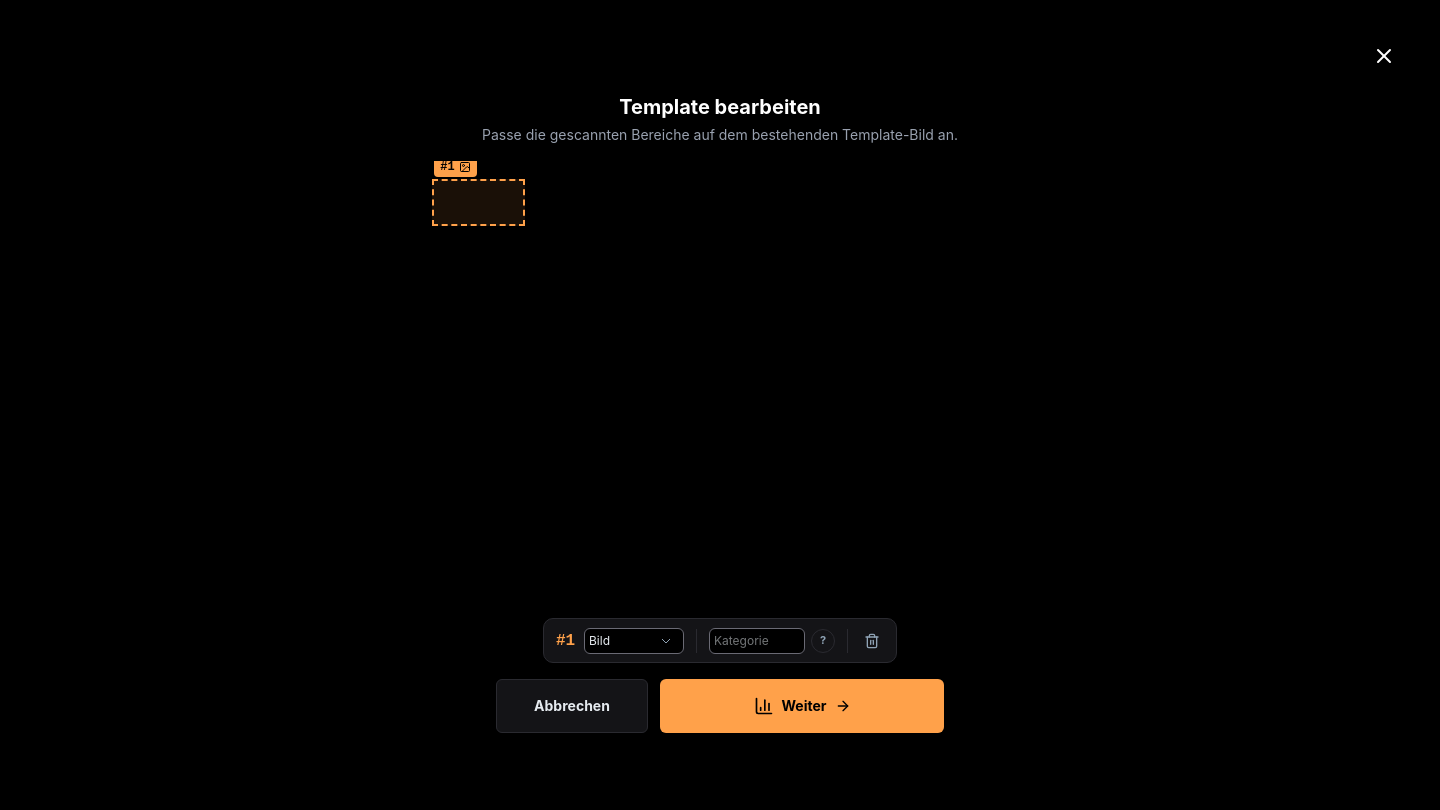
TemplateEditor › pre-fills expected_text with pokemonName when switching to text type
Check: the number of buttons titled "Region löschen" is 1, box [860,629,884,653]
Select "Text (OCR)" in the dropdown named "Typ" at (634, 641), box [584,628,684,654]
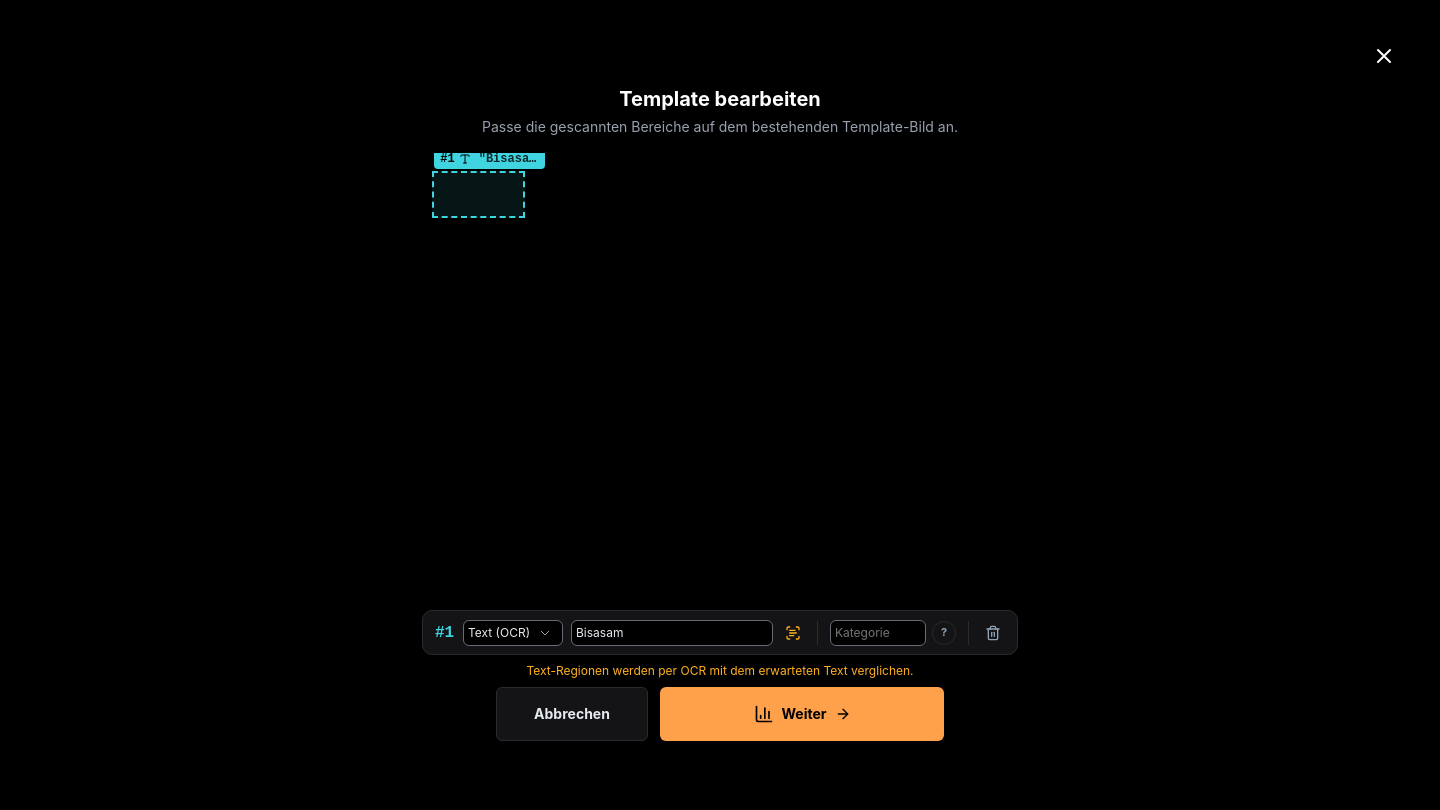
Check: the field with placeholder "Erwarteter Text" holds "Bisasam", box [571,620,773,646]
